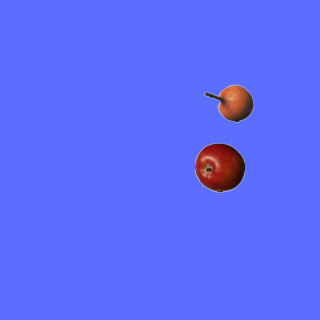Apple Braeburn: (194, 142, 244, 192)
Granadilla: (203, 78, 253, 128)
